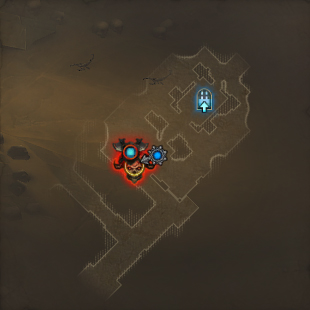Guardian: (112, 154, 159, 185)
